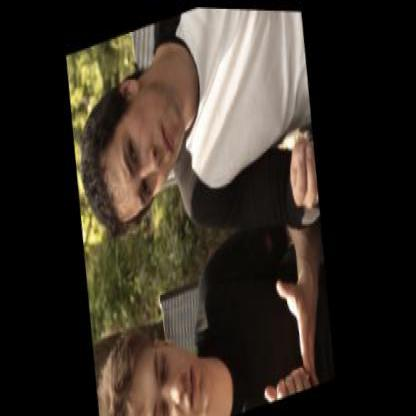knife: (226, 355, 305, 415)
